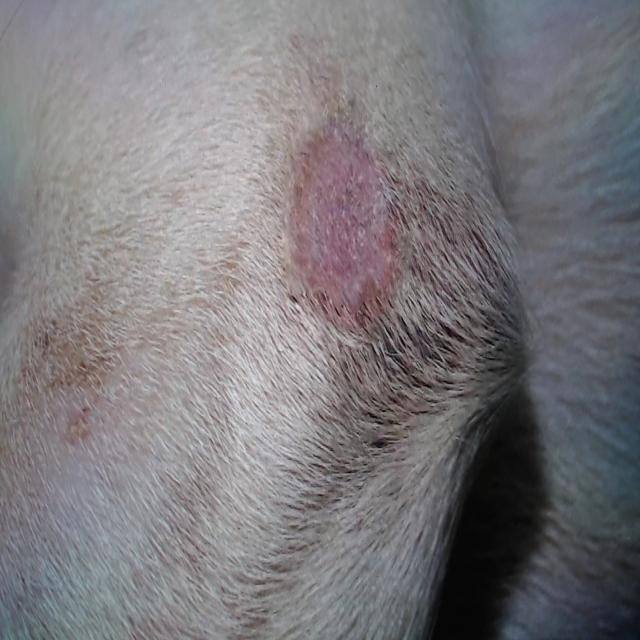ringworm: (278, 76, 408, 349)
